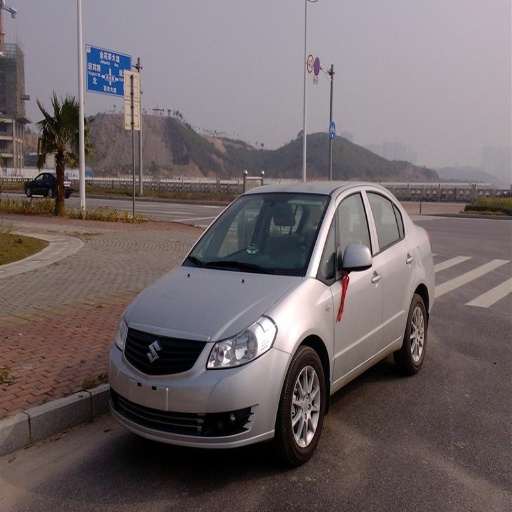front_bumper: (109, 325, 291, 447)
front_glass: (183, 196, 330, 275)
front_left_door: (332, 189, 382, 378)
